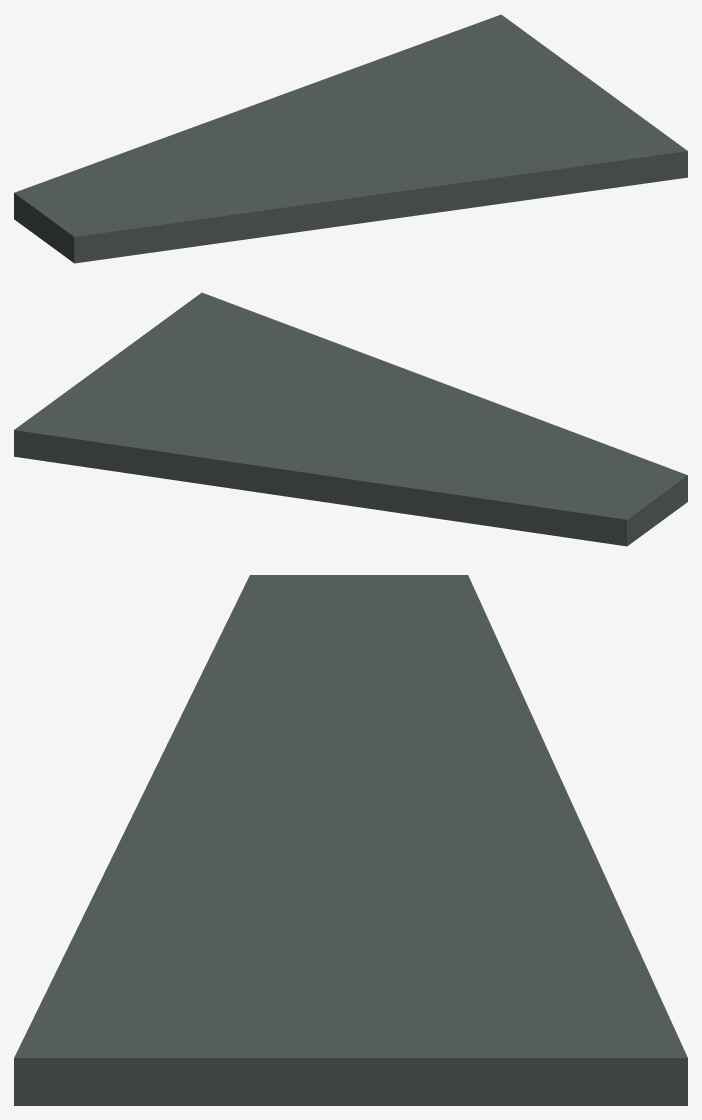
File: BombGlide__WingLeft.obj
The picture shows the model from 3 angles, top to bottom: view 1: azimuth 30°, elevation 25°; view 2: azimuth 150°, elevation 25°; view 3: azimuth 270°, elevation 25°; orthographic projection. The views are drawn at different scales.
Visible parts, largest first — view 1: Deployable_glide_wing; view 2: Deployable_glide_wing; view 3: Deployable_glide_wing.
Part boxes in pixels (x1,y1,x2,y2): Deployable_glide_wing: [14, 14, 687, 263]; Deployable_glide_wing: [14, 292, 687, 546]; Deployable_glide_wing: [14, 575, 687, 1105].
Size of the model in its own units: 0.78 by 0.036 by 0.46.
